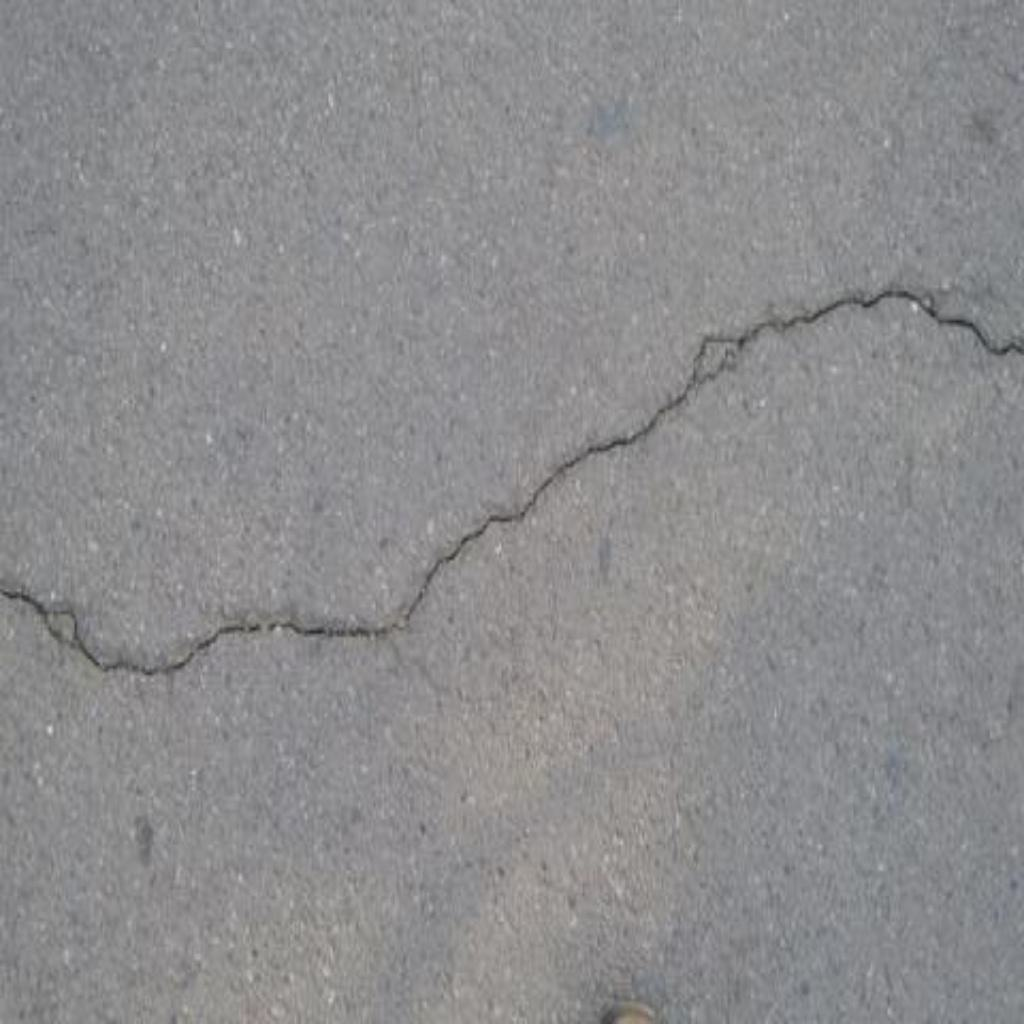Crack: (1, 288, 1024, 679)
